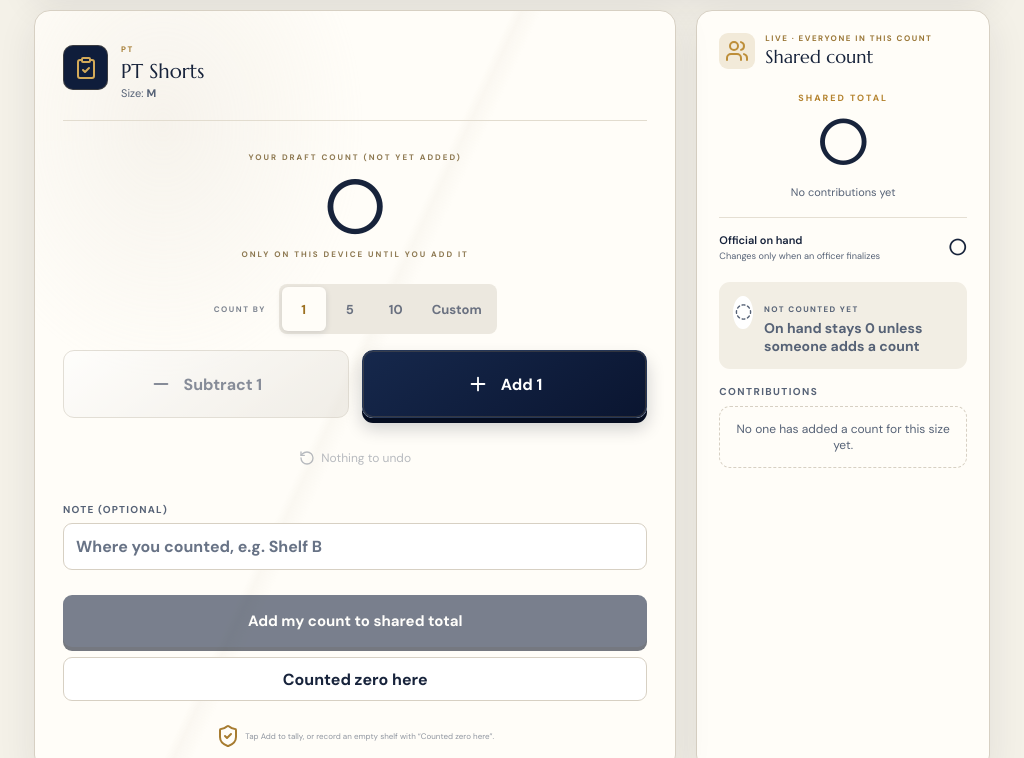
Scenario: SharedCountView › hides Finalize and Cancel for a role without inventory.adjust but still lets them count
(page scrolled)
Click the button "Add 1".
click(505, 384)  # box [362, 350, 647, 418]
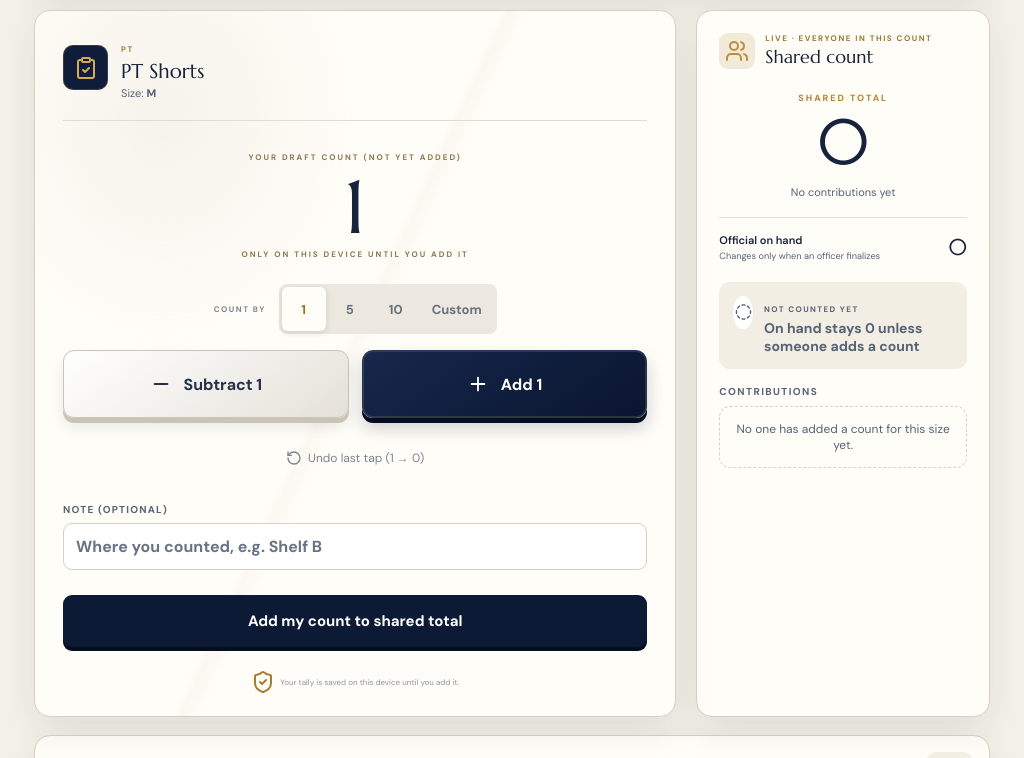
Click the button "Add my count to shared total".
click(355, 621)  # box [63, 595, 647, 647]
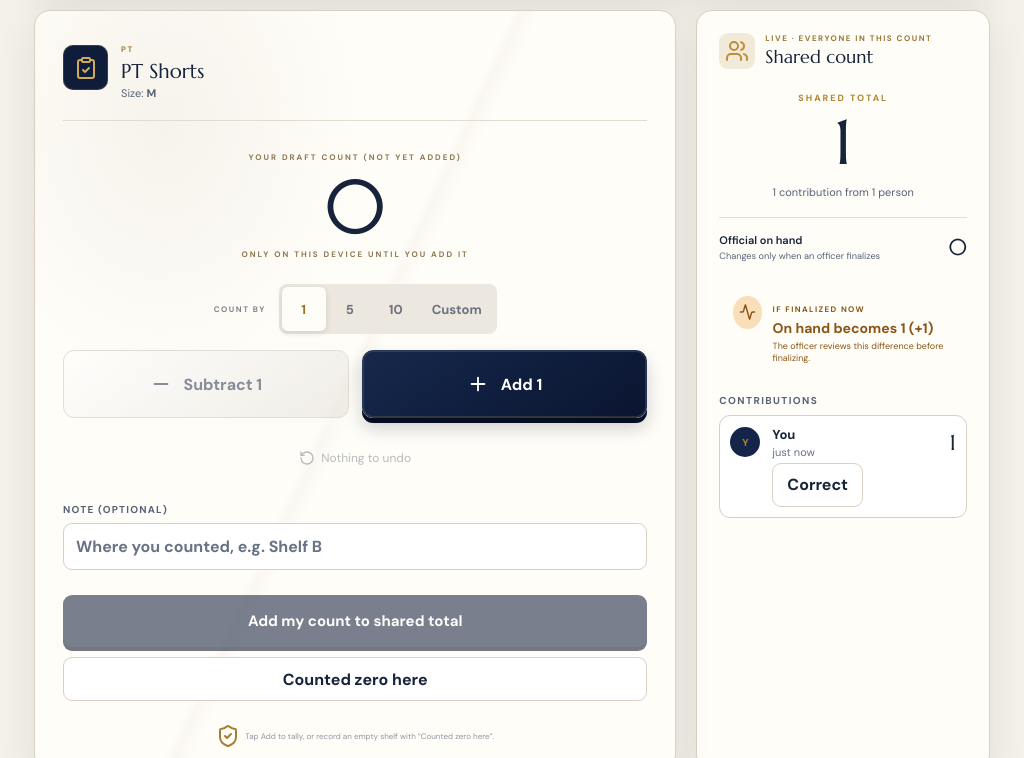
Result: the text named "Shared total" reads "1" at [834, 102, 853, 182]
